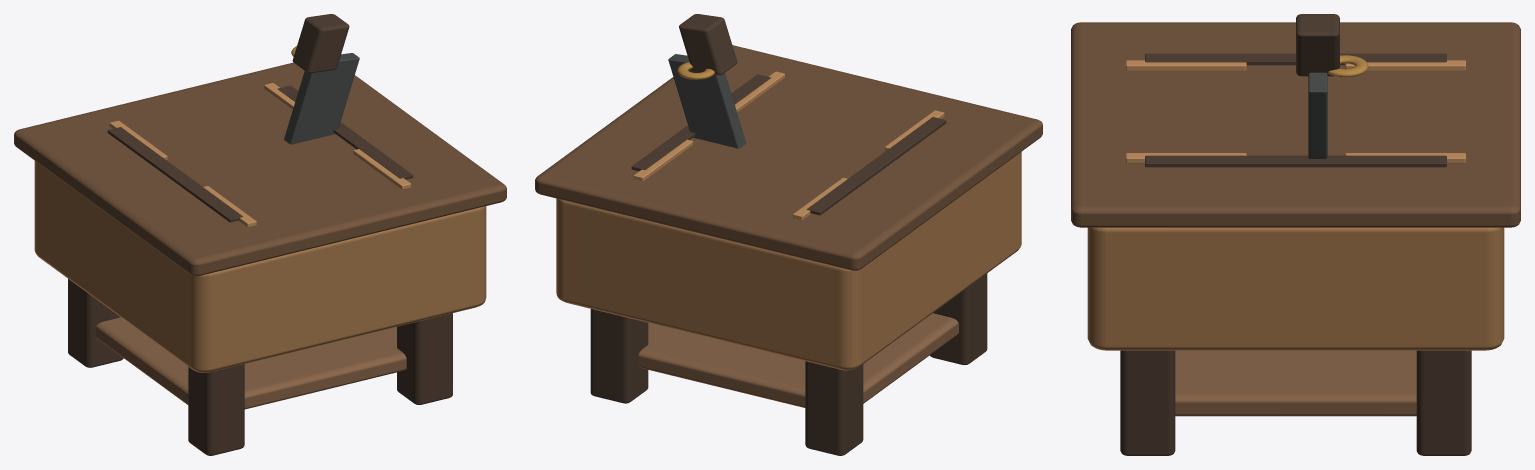
The model's file is detail_butcher_block.glb.
The picture shows the model from 3 angles, left to right: view 1: azimuth 30°, elevation 25°; view 2: azimuth 150°, elevation 25°; view 3: azimuth 270°, elevation 25°; orthographic projection. The views are drawn at different scales.
Parts seen in each view (by area): view 1: metal, wood, stone; view 2: metal, wood, stone; view 3: metal, wood, stone.
Part boxes in pixels (x1,y1,x2,y2): metal: (14, 46, 506, 372); wood: (68, 14, 452, 455); stone: (107, 85, 413, 222); metal: (535, 45, 1042, 370); wood: (590, 14, 987, 455); stone: (631, 74, 946, 215); metal: (1071, 22, 1520, 350); wood: (1120, 14, 1471, 455); stone: (1145, 53, 1446, 167).
Size of the model in its own units: 0.9 by 0.9 by 0.9.
